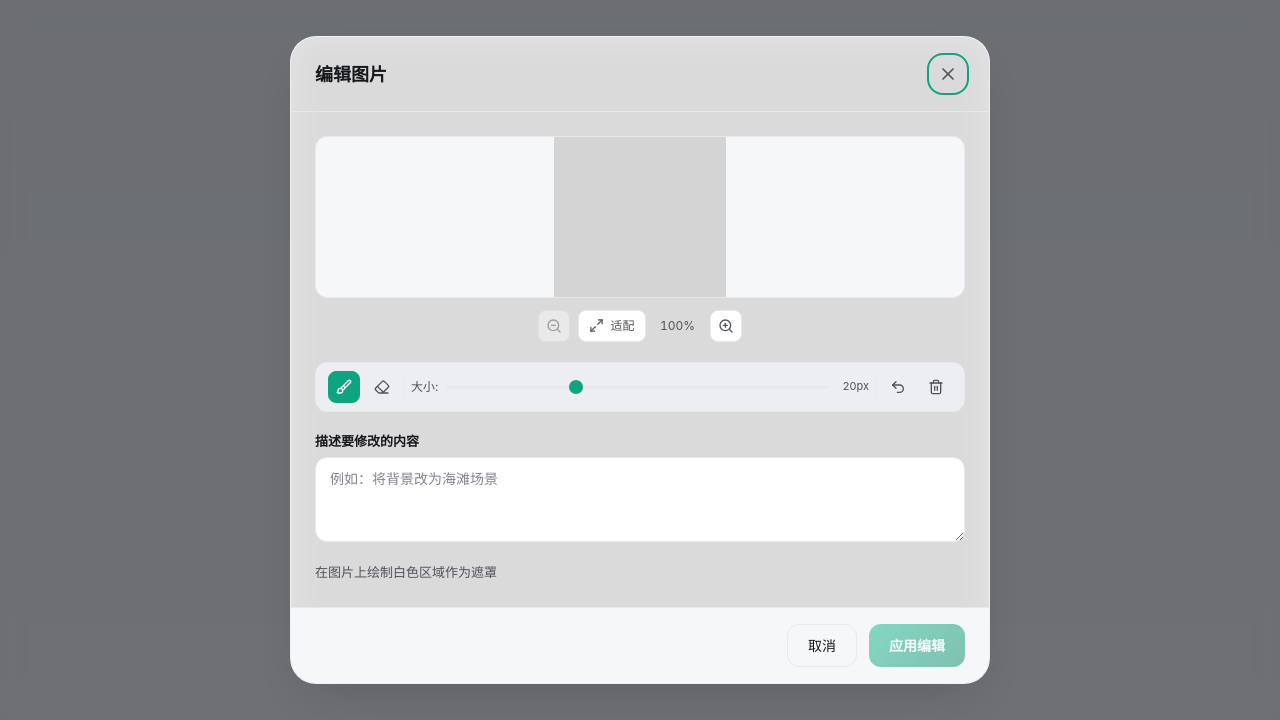
Scenario: ImageEditDialog image sizing › prompts before closing after changing the edit prompt
Step 1. Type "replace the background" into the text box with placeholder "例如：将背景改为海滩场景" → (640, 500), box [315,457,965,542]
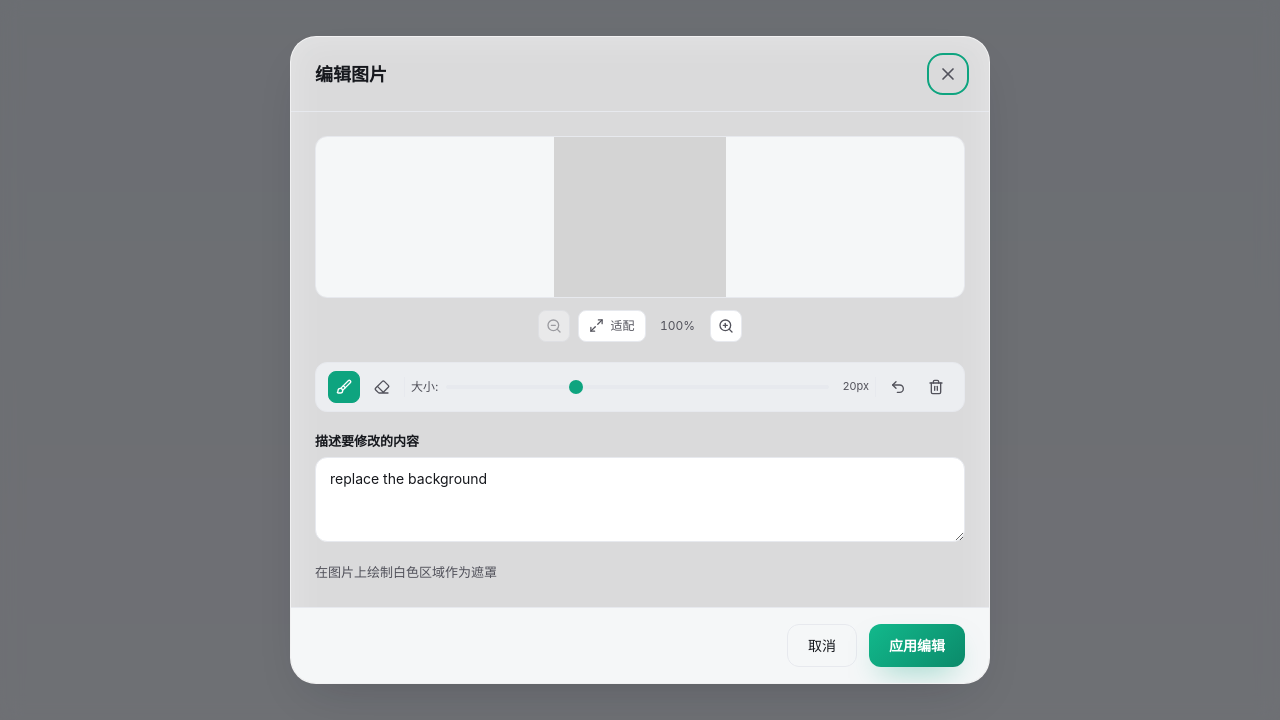
Step 2. Click the button "取消" → (822, 646), box [787,624,857,667]
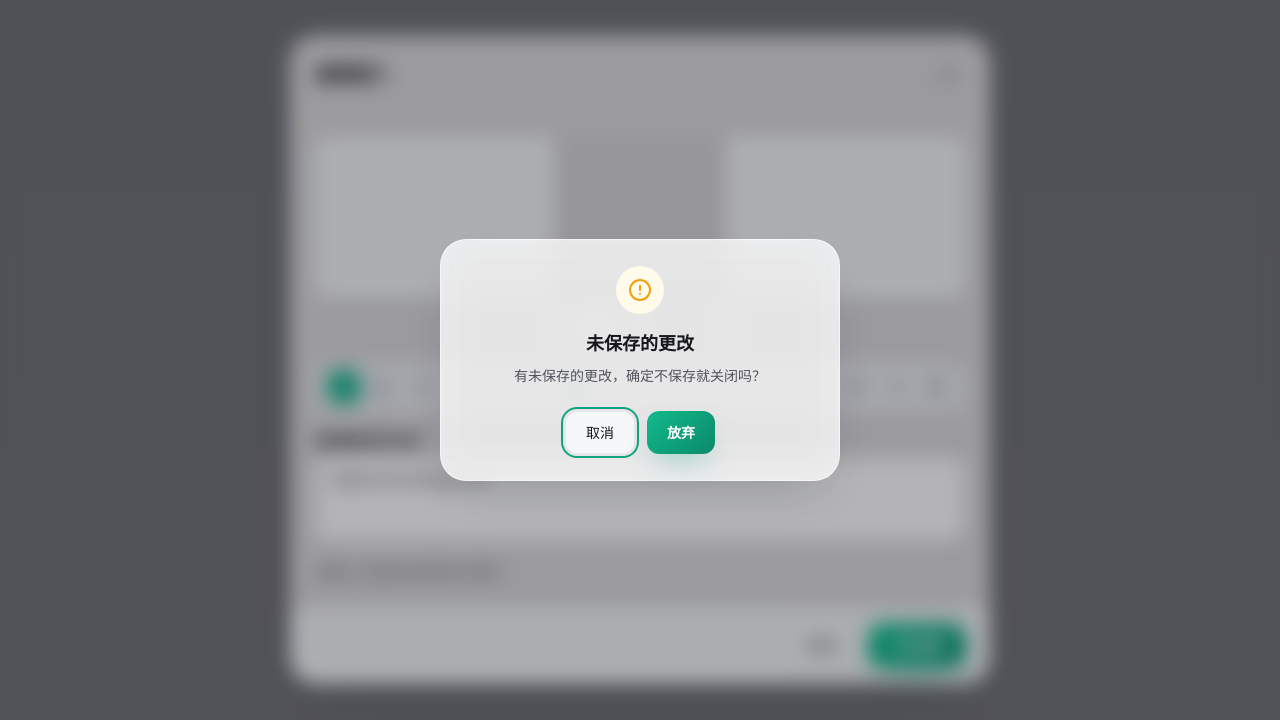
Expected: the text "未保存的更改" is shown, [586,333,694,354]
